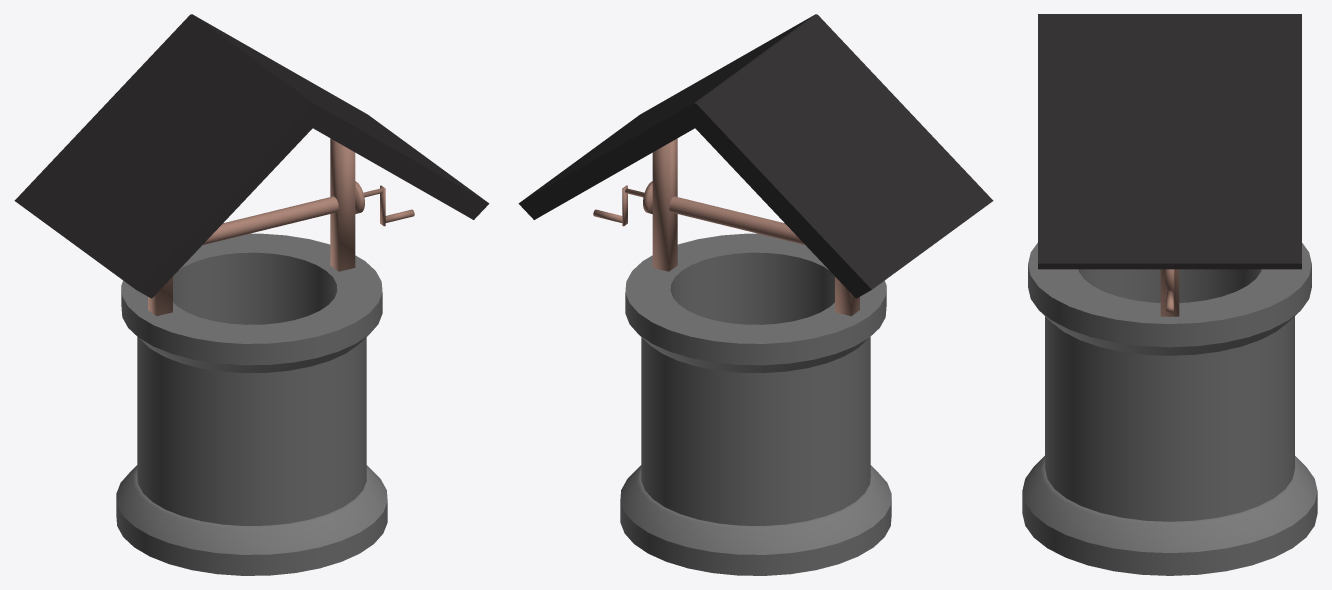
Rendered from Well.fbx.
3 renders of one model, left to right at view 1: azimuth 30°, elevation 25°; view 2: azimuth 150°, elevation 25°; view 3: azimuth 270°, elevation 25°, orthographic. The views are drawn at different scales.
Parts seen in each view (by area): view 1: Well; view 2: Well; view 3: Well.
Boxes of the visible parts, x1,y1,x2,y2 form: Well: (14,14,489,575); Well: (518,14,993,575); Well: (1022,14,1317,575).
Bounding box in the file's own units: 294 × 365 × 196.
